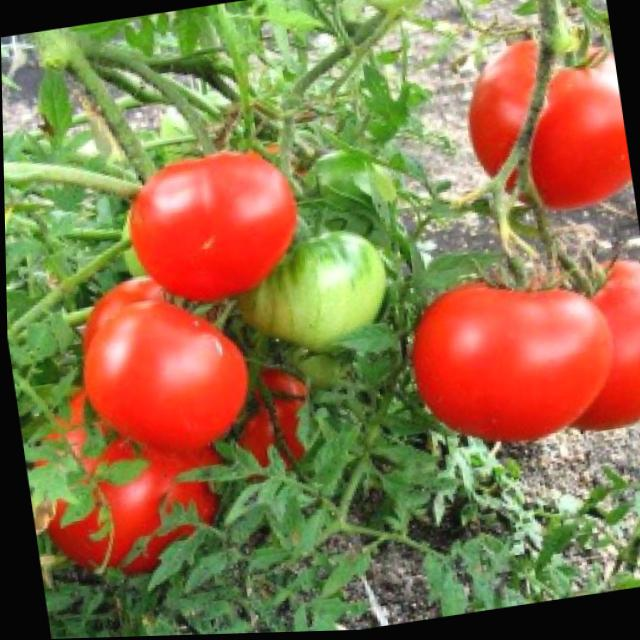tomato: (404, 270, 621, 460), (67, 263, 256, 471), (455, 30, 632, 229), (116, 146, 310, 315), (37, 430, 229, 585)
